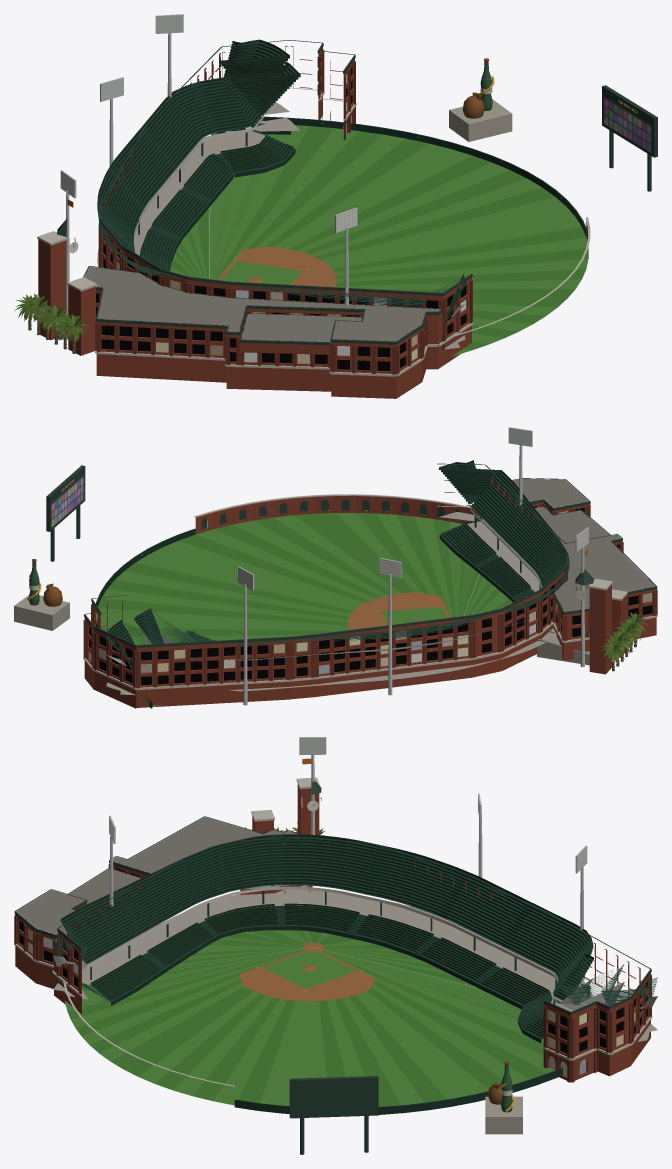
Rendered from oracle_lod0.glb.
3 renders of one model, top to bottom at view 1: azimuth 30°, elevation 25°; view 2: azimuth 150°, elevation 25°; view 3: azimuth 270°, elevation 25°, orthographic. The views are drawn at different scales.
Visible parts, largest first — view 1: L0_grass, L0_paint, L0_brickred, L0_metal, L0_roof, L0_paving, L0_stone, L0_leaf, L0_neon, L0_lamp; view 2: L0_grass, L0_brickred, L0_metal, L0_paint, L0_roof, L0_paving, L0_stone, L0_leaf, L0_neon, L0_lamp; view 3: L0_grass, L0_paint, L0_metal, L0_paving, L0_brickred, L0_roof, L0_stone.
Part boxes in pixels (x1=…): L0_grass: x1=170, y1=125, x2=588, y2=356; L0_paint: x1=97, y1=40, x2=587, y2=325; L0_brickred: x1=38, y1=46, x2=587, y2=398; L0_metal: x1=57, y1=14, x2=657, y2=371; L0_roof: x1=84, y1=266, x2=440, y2=341; L0_paving: x1=97, y1=102, x2=465, y2=349; L0_stone: x1=37, y1=87, x2=590, y2=376; L0_leaf: x1=14, y1=293, x2=89, y2=342; L0_neon: x1=603, y1=96, x2=652, y2=153; L0_lamp: x1=61, y1=172, x2=356, y2=253; L0_grass: x1=98, y1=513, x2=512, y2=706; L0_brickred: x1=83, y1=469, x2=657, y2=708; L0_metal: x1=46, y1=427, x2=657, y2=705; L0_paint: x1=27, y1=461, x2=568, y2=708; L0_roof: x1=513, y1=478, x2=655, y2=611; L0_paving: x1=106, y1=512, x2=589, y2=695; L0_stone: x1=14, y1=494, x2=657, y2=690; L0_leaf: x1=600, y1=612, x2=648, y2=662; L0_neon: x1=51, y1=475, x2=589, y2=635; L0_lamp: x1=238, y1=529, x2=588, y2=600; L0_grass: x1=64, y1=930, x2=554, y2=1106; L0_paint: x1=53, y1=835, x2=657, y2=1114; L0_metal: x1=14, y1=737, x2=651, y2=1154; L0_paving: x1=53, y1=885, x2=657, y2=1041; L0_brickred: x1=14, y1=784, x2=651, y2=1082; L0_roof: x1=16, y1=817, x2=296, y2=941; L0_stone: x1=14, y1=777, x2=652, y2=1134.
Bounding box in the file's own units: 259 × 60.93 × 239.
